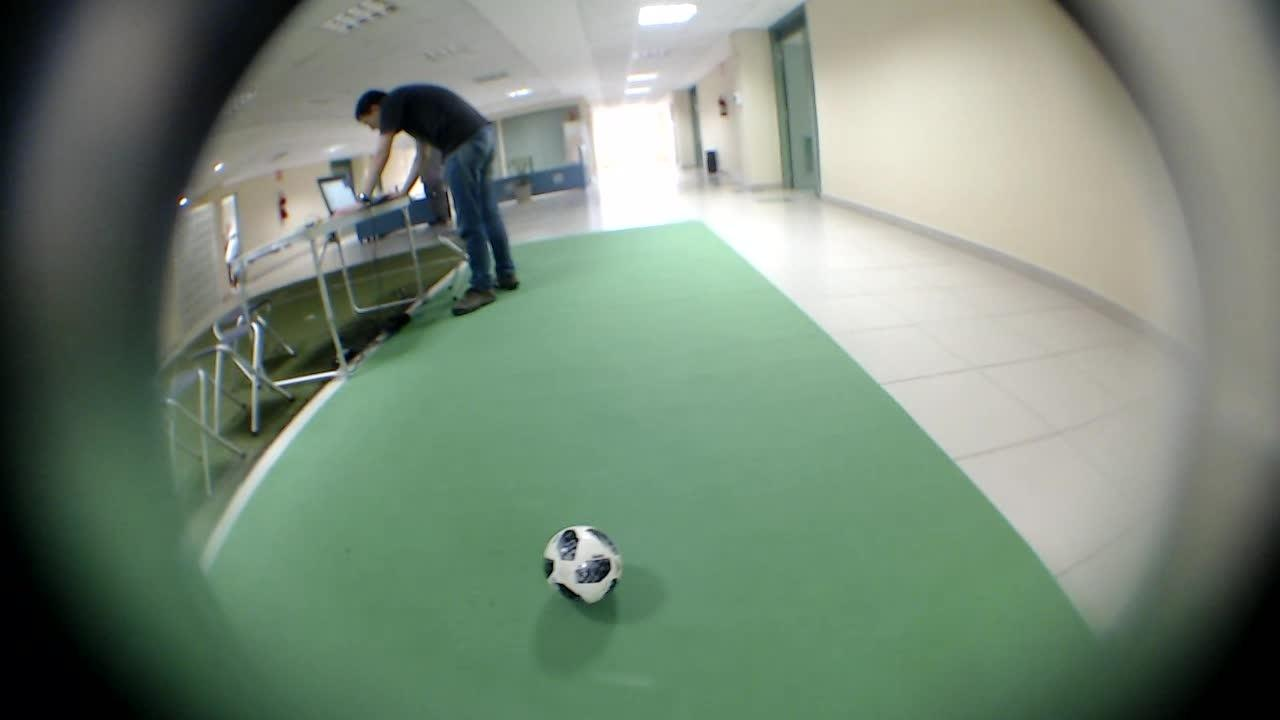ball: (532, 512, 637, 618)
